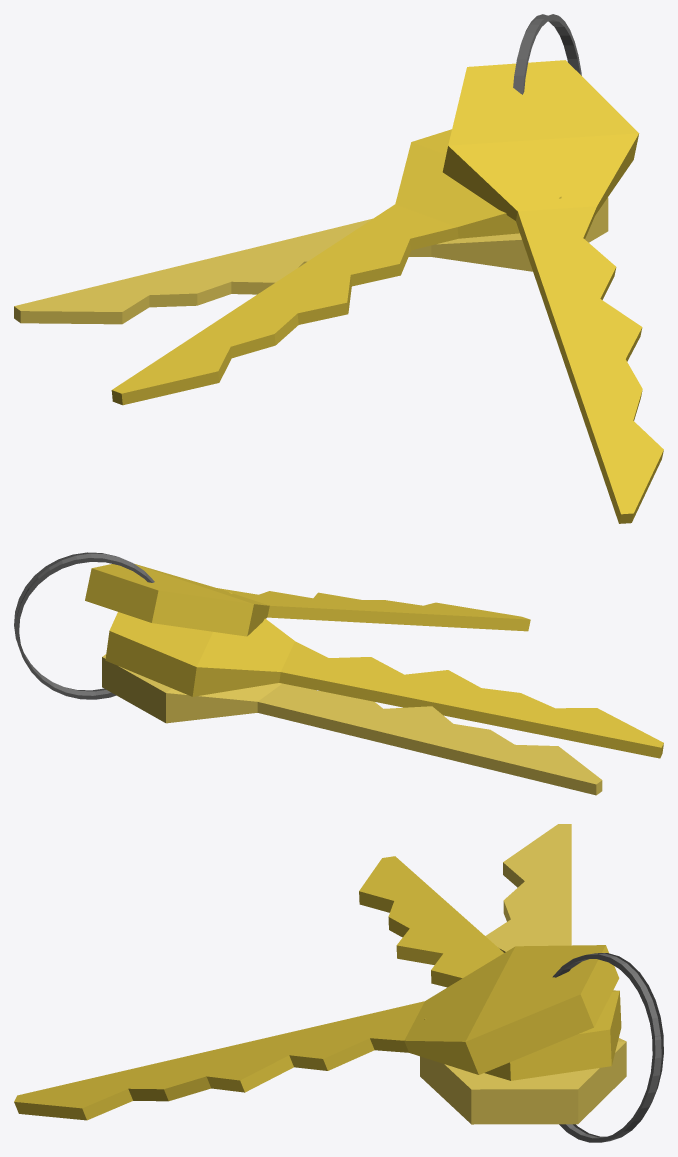
The model's file is keys.fbx.
The picture shows the model from 3 angles, top to bottom: view 1: azimuth 30°, elevation 25°; view 2: azimuth 150°, elevation 25°; view 3: azimuth 270°, elevation 25°; orthographic projection. The views are drawn at different scales.
Parts seen in each view (by area): view 1: Cube.001, Cube.002, Cube, Circle; view 2: Cube.002, Cube, Cube.001, Circle; view 3: Cube.001, Cube, Cube.002, Circle.
Boxes of the visible parts, x1,y1,x2,y2 form: Cube.001: (442, 60, 663, 523); Cube.002: (111, 129, 561, 405); Cube: (14, 197, 608, 324); Circle: (513, 14, 581, 94); Cube.002: (105, 592, 663, 758); Cube: (102, 654, 602, 795); Cube.001: (85, 563, 530, 636); Circle: (14, 552, 154, 699); Cube.001: (14, 945, 619, 1120); Cube: (420, 824, 626, 1124); Cube.002: (359, 856, 621, 1080); Circle: (552, 953, 663, 1142).
Bounding box in the file's own units: 250 × 96.65 × 223.
